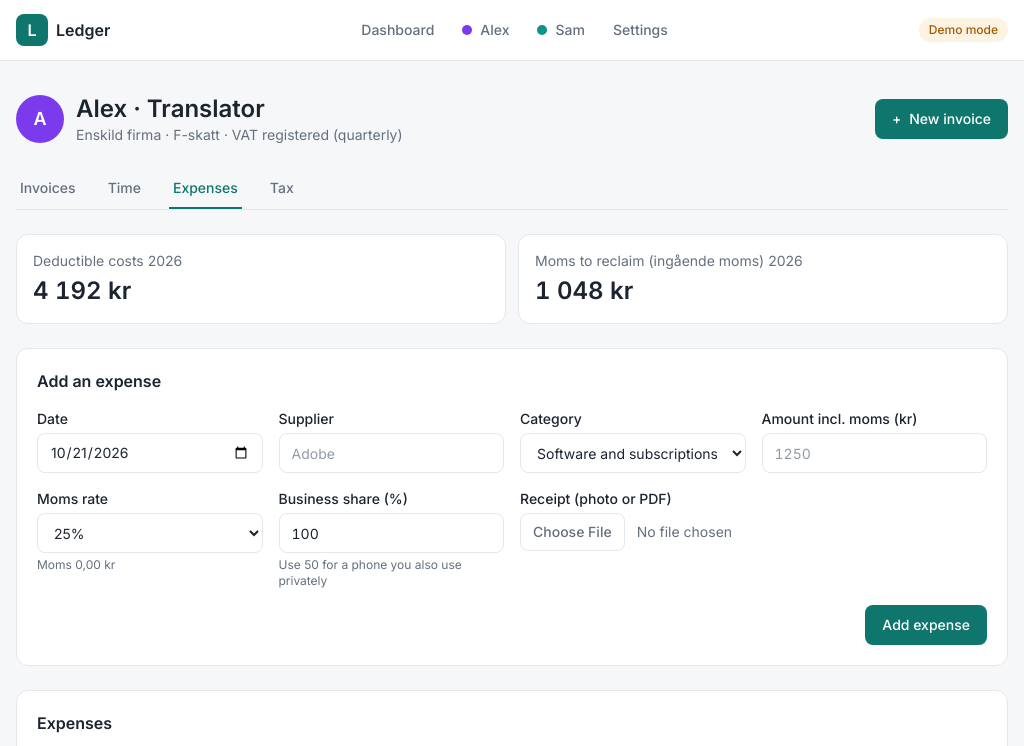
Scenario: Expenses page › asks for the supplier before adding
Click the button "Add expense" at [926, 625], box [865, 605, 987, 645]
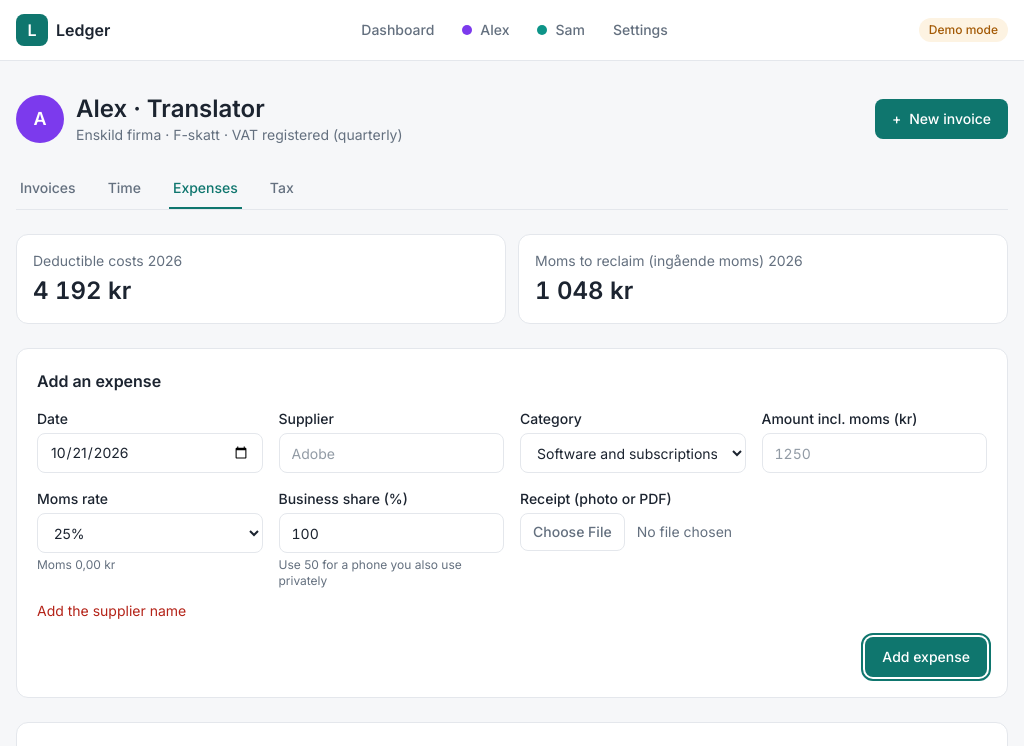
Now the text "Add the supplier name" is shown, box [37, 602, 186, 619]
